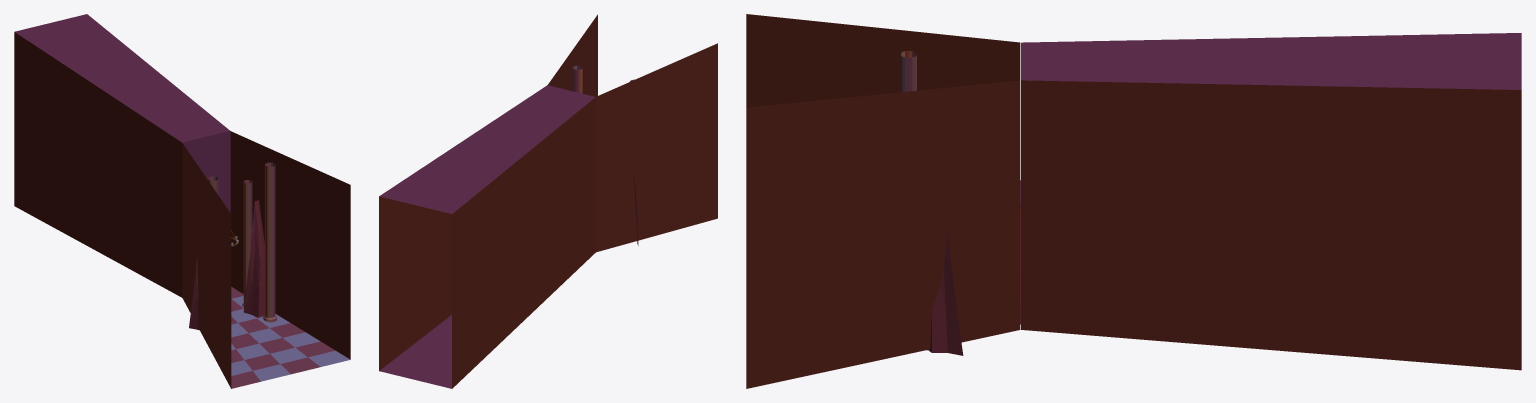
File: PT_Sce_02_a.FBX
3 views of the same model, side by side, from view 1: azimuth 30°, elevation 25°; view 2: azimuth 150°, elevation 25°; view 3: azimuth 270°, elevation 25° (orthographic). The views are drawn at different scales.
Visible parts, largest first — view 1: PT_Sce_02_a; view 2: PT_Sce_02_a; view 3: PT_Sce_02_a.
Part boxes in pixels (x1,y1,x2,y2): PT_Sce_02_a: [14, 14, 350, 388]; PT_Sce_02_a: [379, 14, 717, 388]; PT_Sce_02_a: [746, 14, 1521, 388].
Size of the model in its own units: 20377 by 28505 by 71188.
